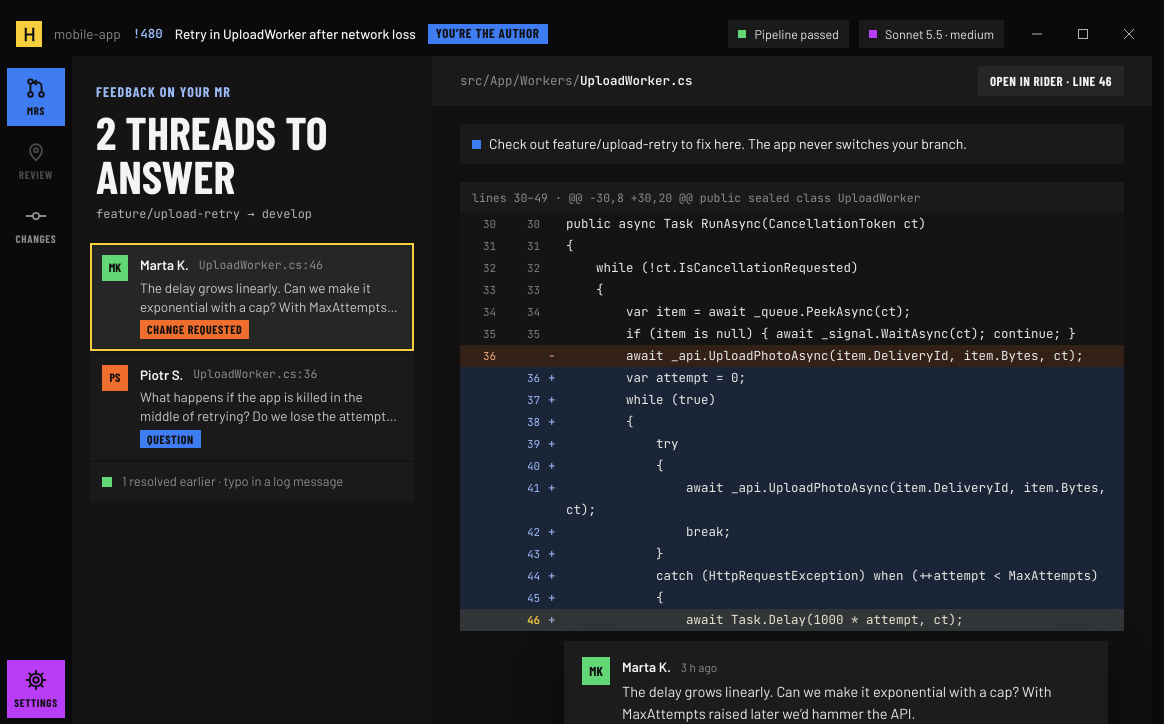
Test: S-10 read-only when the checkout is not on the source branch (F-26.8) › F-26.8 a question keeps its composer: Draft with Claude and Send reply
Click the option that starts with "Piotr S." at (252, 406), box [90, 353, 414, 460]
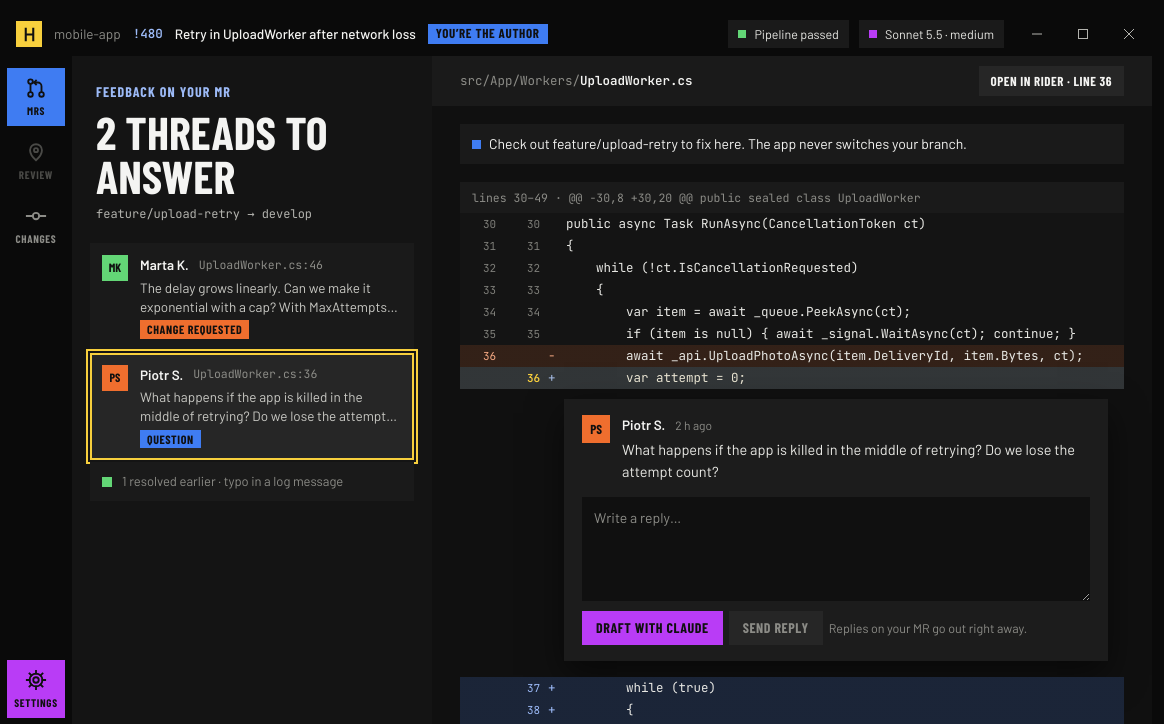
expect the text box named "Your reply" is enabled: met, box [582, 497, 1090, 601]
expect the button "Draft with Claude" is enabled: met, box [582, 611, 723, 645]
expect the button "Send reply" is shown: met, box [729, 611, 823, 645]
